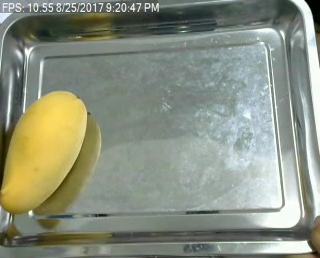Mango: (0, 87, 90, 217)
